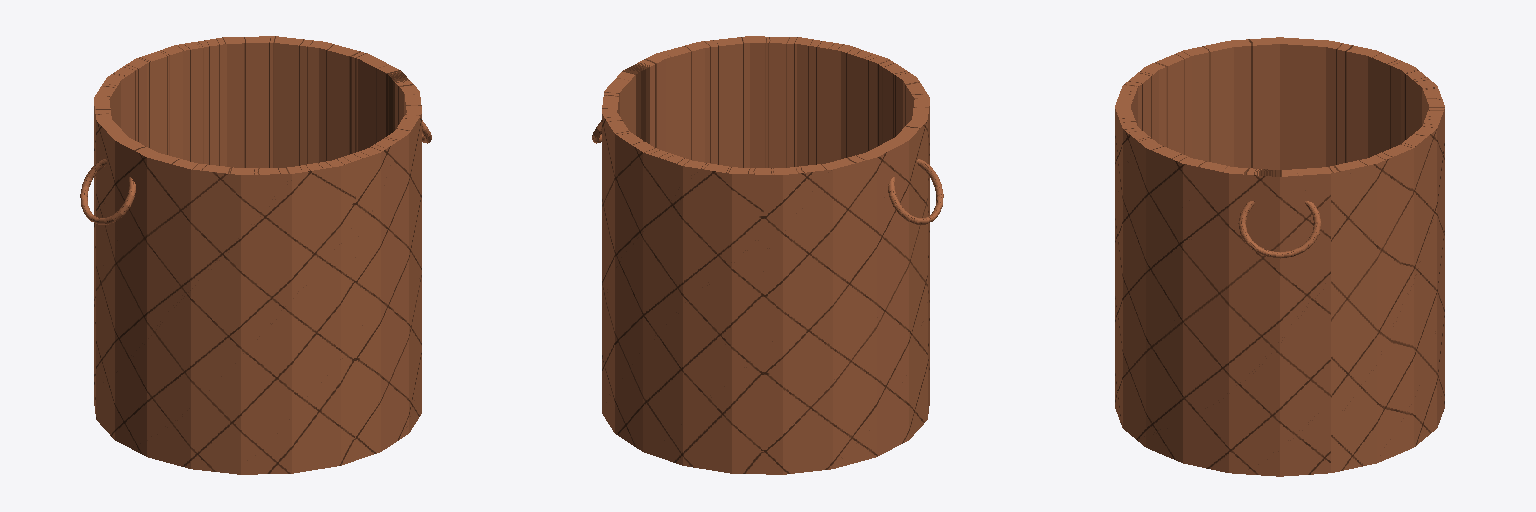
3 views of the same model, side by side, from view 1: azimuth 30°, elevation 25°; view 2: azimuth 150°, elevation 25°; view 3: azimuth 270°, elevation 25° (orthographic).
Parts seen in each view (by area): view 1: barril:pCylinder1, barril:pTorus1; view 2: barril:pCylinder1, barril:pTorus1; view 3: barril:pCylinder1, barril:pTorus2.
Part boxes in pixels (x1,y1,x2,y2): barril:pCylinder1: (94, 36, 421, 474); barril:pTorus1: (80, 159, 135, 224); barril:pCylinder1: (602, 36, 929, 474); barril:pTorus1: (888, 159, 943, 224); barril:pCylinder1: (1115, 37, 1444, 476); barril:pTorus2: (1238, 201, 1321, 258).
Bounding box in the file's own units: 2.02 × 1.74 × 1.74.
1 materials, 1 textured.